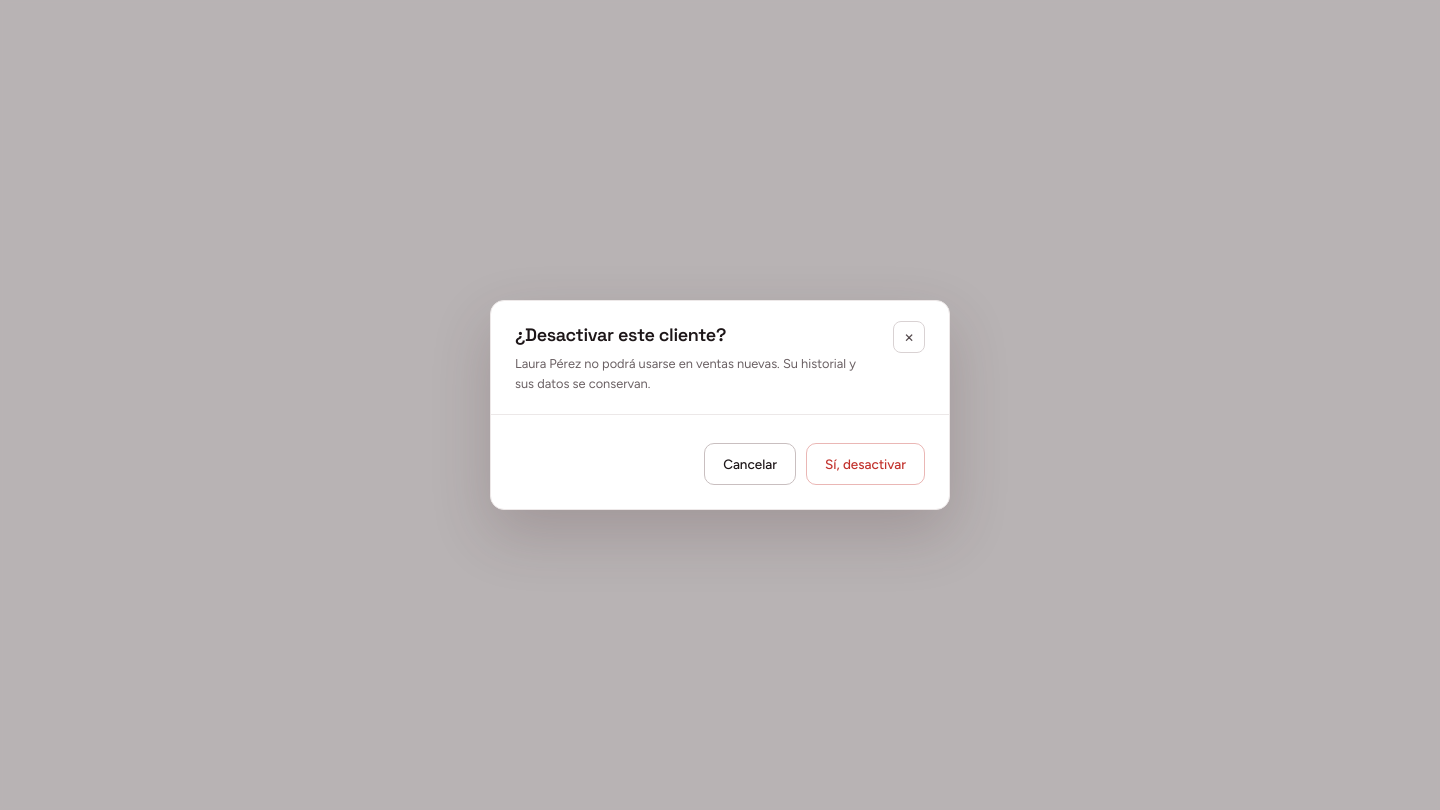
Test case: CustomerStatusModal errors › tells when the role has no permission
This screenshot has width=1440, height=810.
Click the button "Sí, desactivar" at (865, 464), box [806,443,925,485]
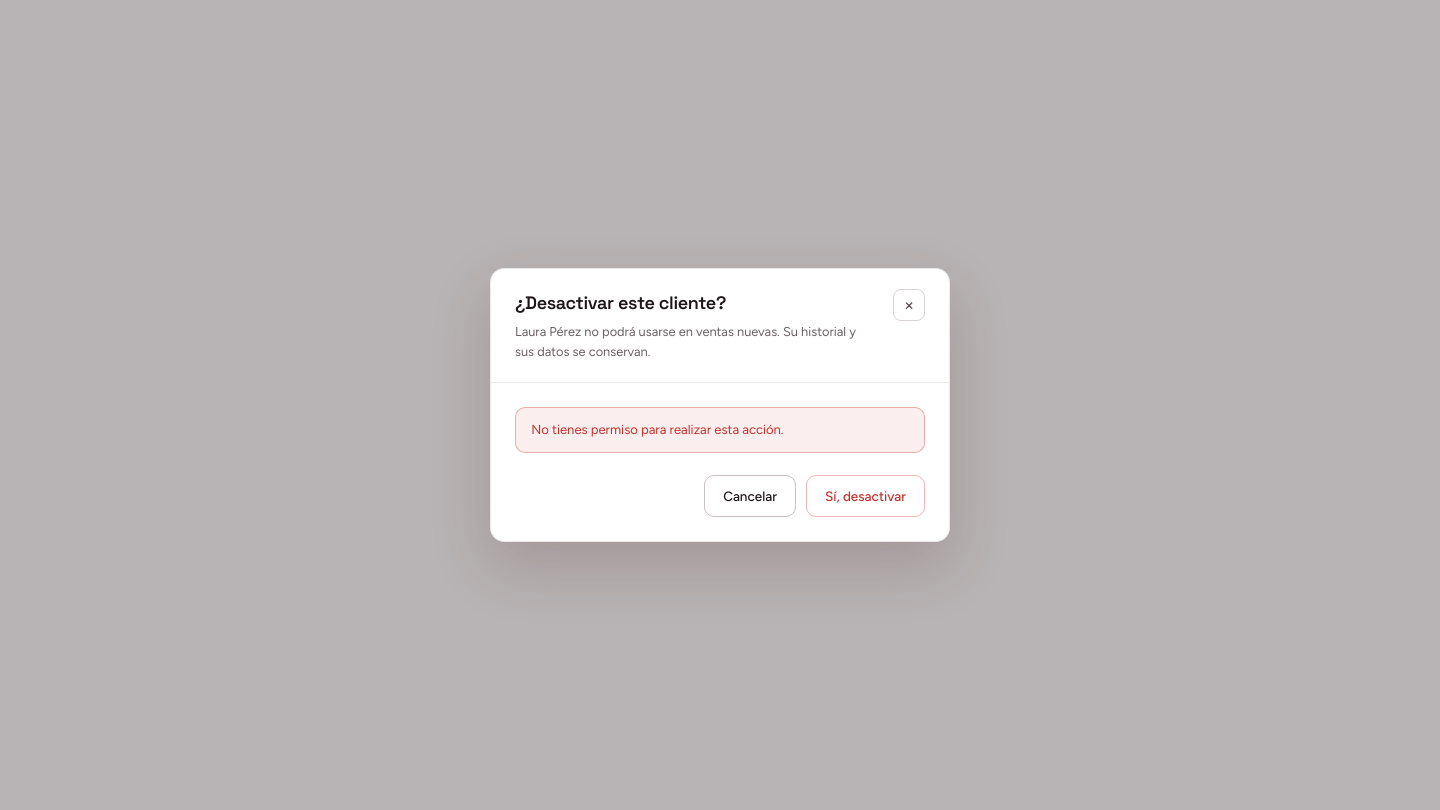
Check: the message reads "No tienes permiso para realizar esta acción.", box [531,422,784,437]
